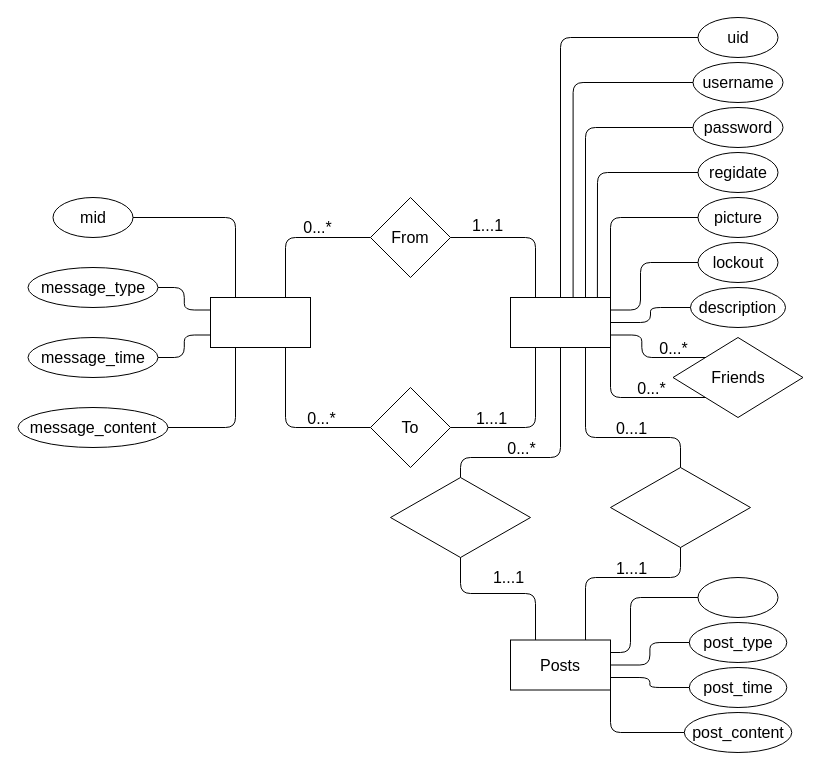
The diagram is 820 pixels wide and 770 high, and some of its shapes have lost their labels. Each missing label, with the centre of its shape:
Last_visit_post: (x=680, y=507)
Messages: (x=260, y=322)
pid: (x=737, y=597)
Share: (x=460, y=517)
Users: (x=560, y=322)
